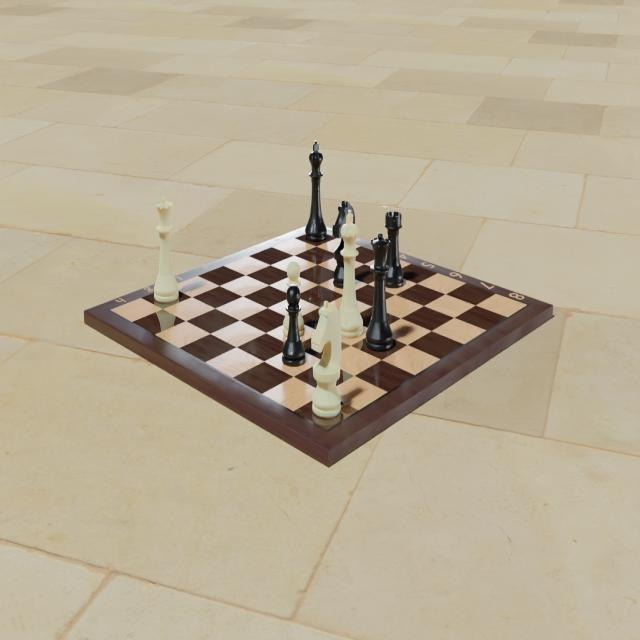black-king: (304, 139, 327, 242)
black-knight: (331, 198, 356, 289)
black-pawn: (281, 283, 307, 366)
black-queen: (364, 231, 394, 352)
black-rook: (382, 211, 404, 289)
white-king: (335, 208, 364, 339)
white-knight: (309, 300, 342, 420)
white-pawn: (282, 260, 306, 338)
white-queen: (153, 195, 179, 303)
